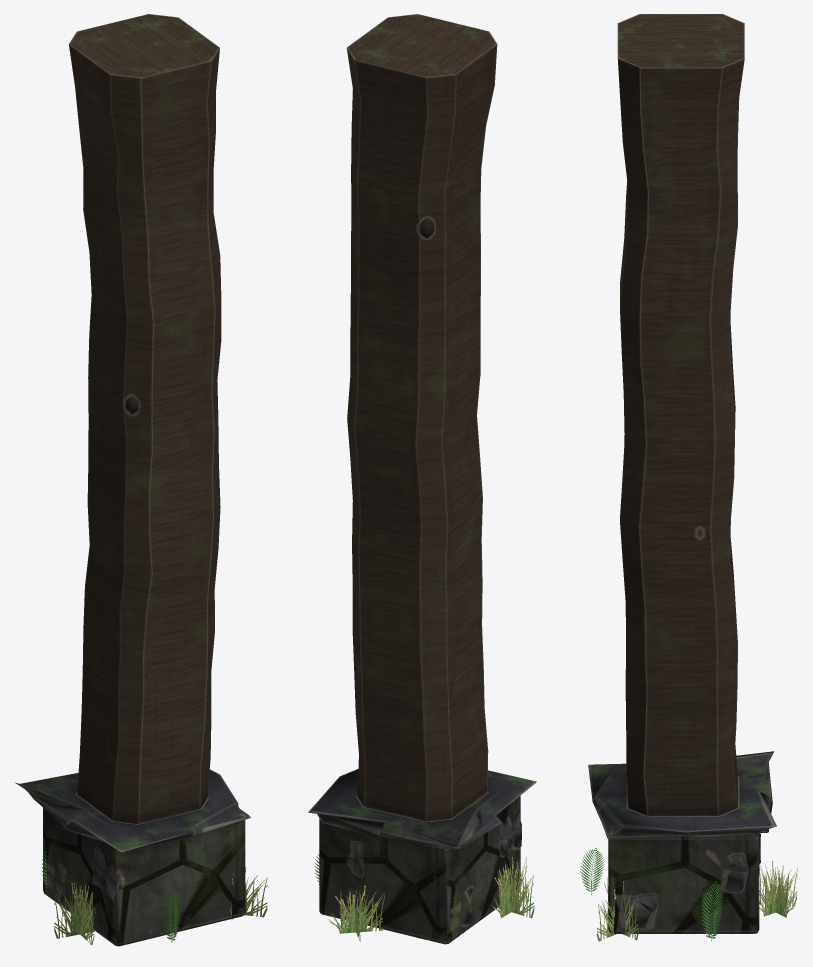
The model's file is HutPost.fbx.
3 views of the same model, side by side, from view 1: azimuth 30°, elevation 25°; view 2: azimuth 150°, elevation 25°; view 3: azimuth 270°, elevation 25° (orthographic).
Parts seen in each view (by area): view 1: HutPost_Main, HutPost_Leaves; view 2: HutPost_Main, HutPost_Leaves; view 3: HutPost_Main, HutPost_Leaves.
Part boxes in pixels (x1,y1,x2,y2): HutPost_Main: (15,14,250,946); HutPost_Leaves: (41,847,267,944); HutPost_Main: (308,14,536,944); HutPost_Leaves: (314,854,534,941); HutPost_Main: (588,14,776,933); HutPost_Leaves: (580,848,797,941).
Size of the model in its own units: 313 by 1260 by 309.
